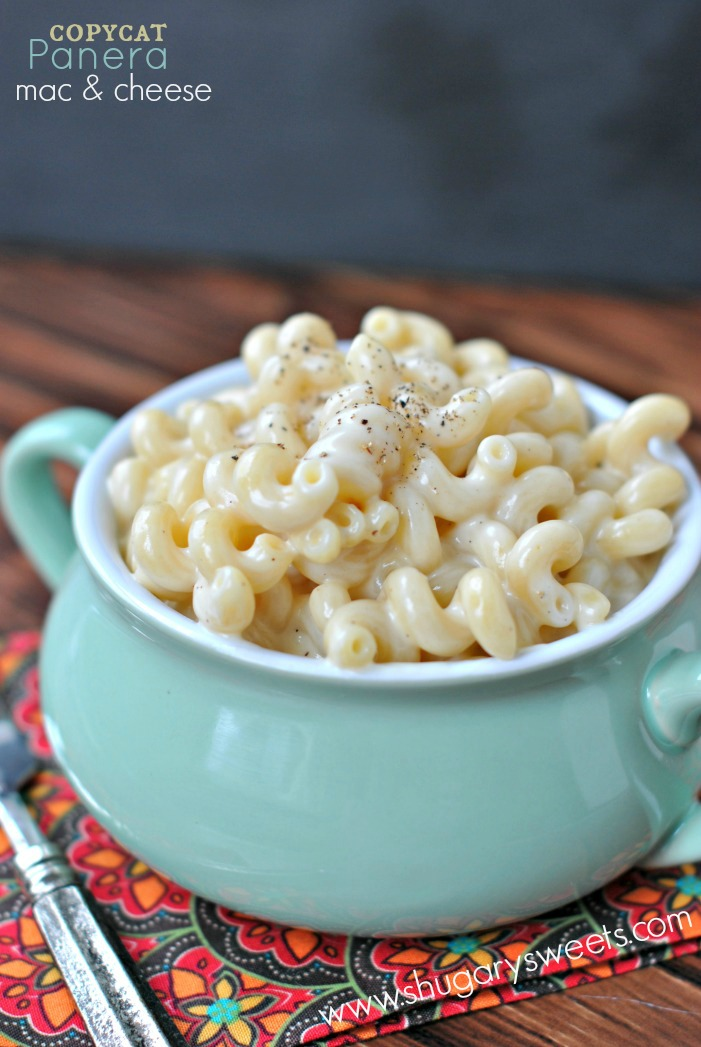macncheese: (112, 300, 692, 676)
